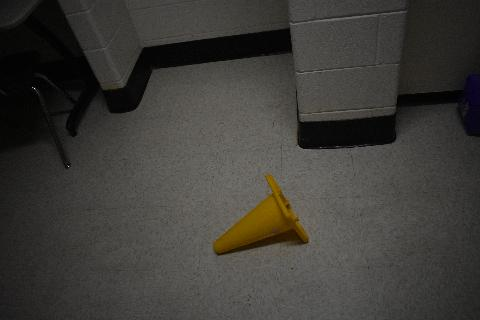cone: (212, 176, 308, 254)
